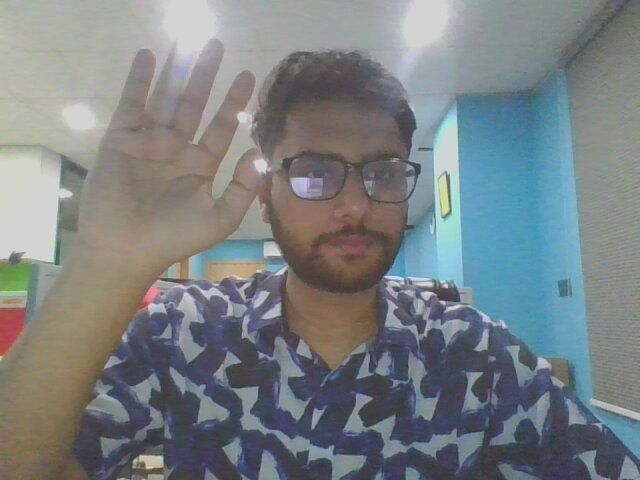hello: (70, 23, 282, 303)
